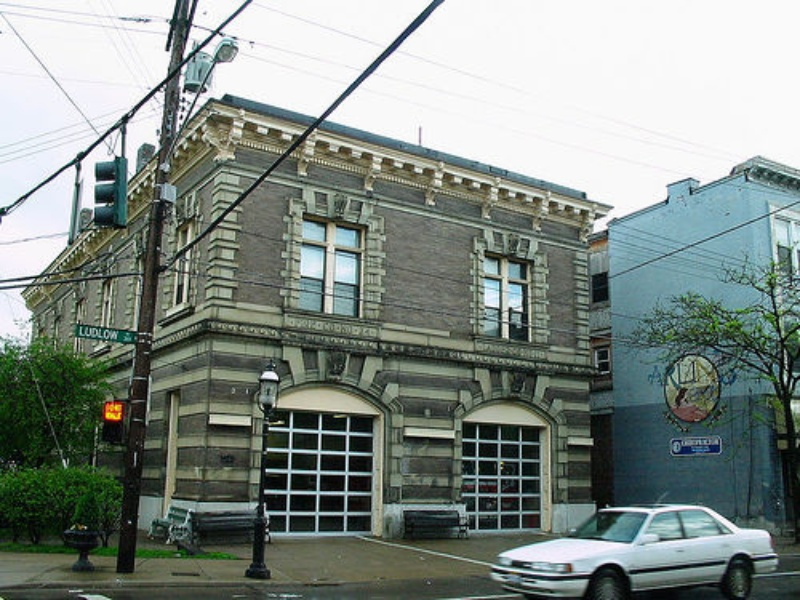car: (489, 506, 777, 600)
